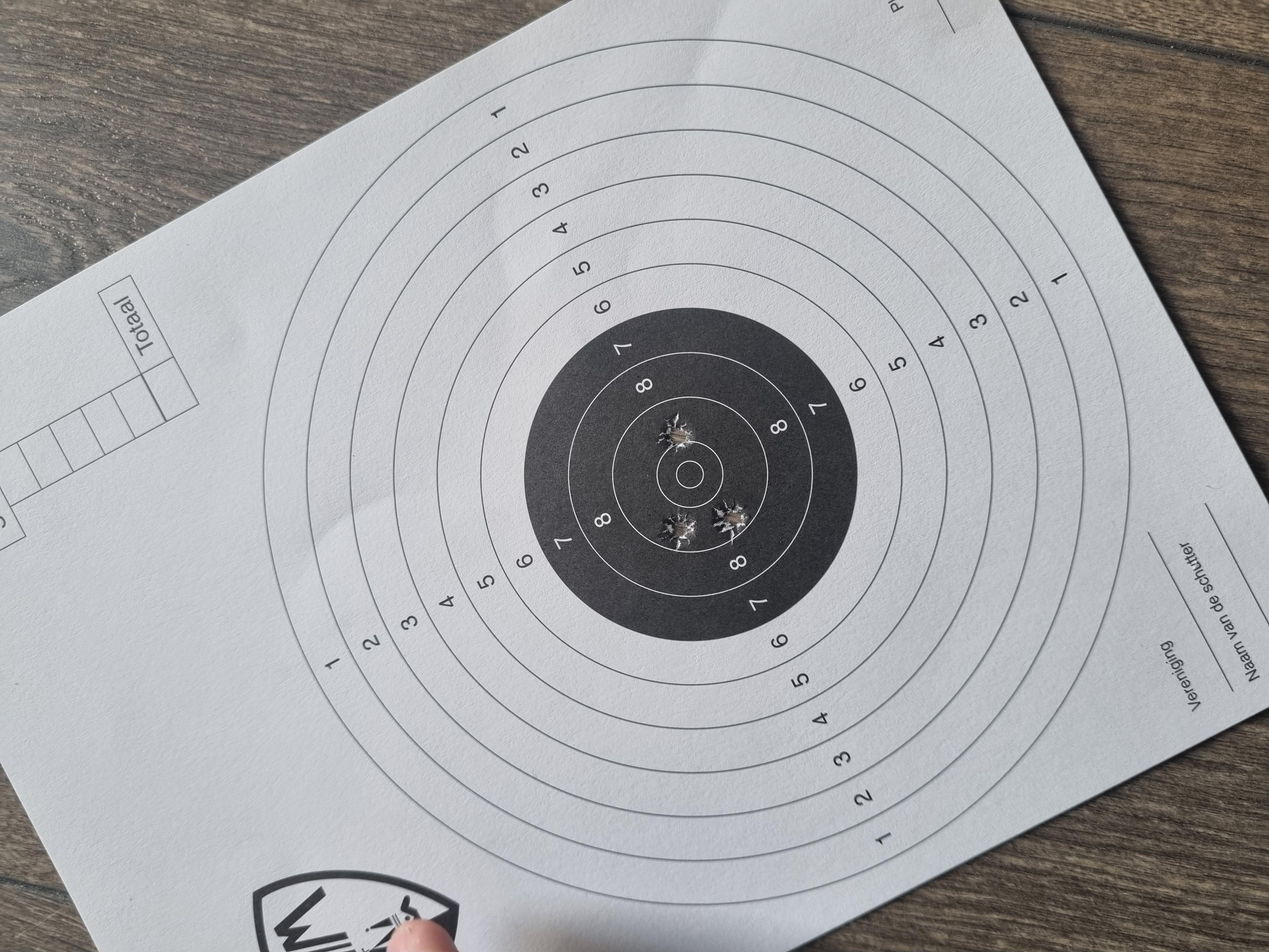hole: (541, 532, 604, 565), (662, 493, 720, 520), (536, 493, 588, 523)
